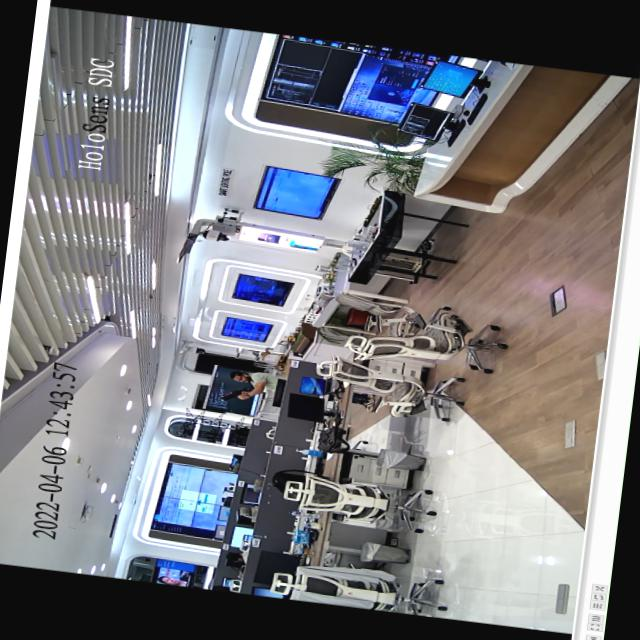long weapon: (217, 382, 256, 406)
